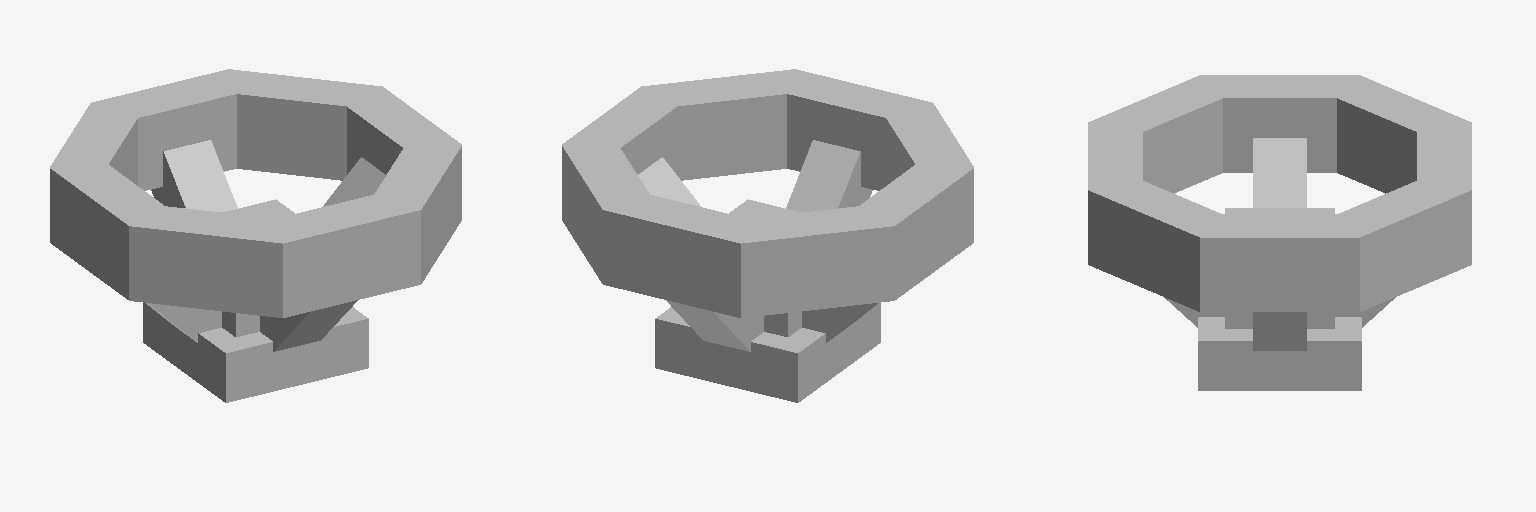
Rendered from valve_handle.obj.
The picture shows the model from 3 angles: view 1: azimuth 30°, elevation 25°; view 2: azimuth 150°, elevation 25°; view 3: azimuth 270°, elevation 25°; orthographic projection.
Parts seen in each view (by area): view 1: Cube.009; view 2: Cube.009; view 3: Cube.009.
Part boxes in pixels (x1,y1,x2,y2): Cube.009: (50,69,461,402); Cube.009: (562,69,973,402); Cube.009: (1088,75,1471,390).
Size of the model in its own units: 0.875 by 0.5 by 0.875.